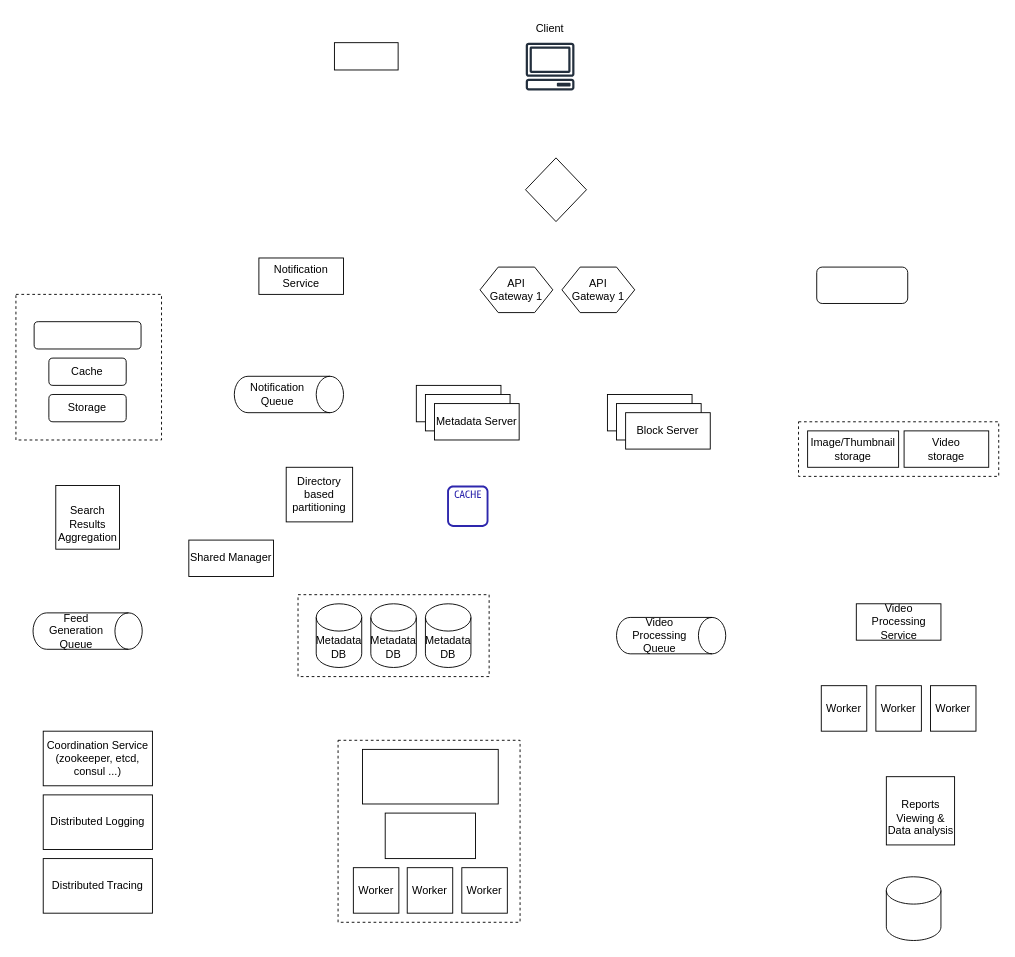
Image size: 1015x957. Some labels were removed from this diagram. Each missing label, with the centre of its shape:
CDN: point (862, 284)
Data Processing Systems (Hadoop/MR, Spark): point (430, 776)
Database: point (913, 908)
Distributed Scheduler: point (429, 835)
DNS: point (366, 56)
Load Balancer: point (555, 189)
Redis/Memcached: point (467, 505)
Search Index (ElasticSearch, Solr): point (87, 335)
